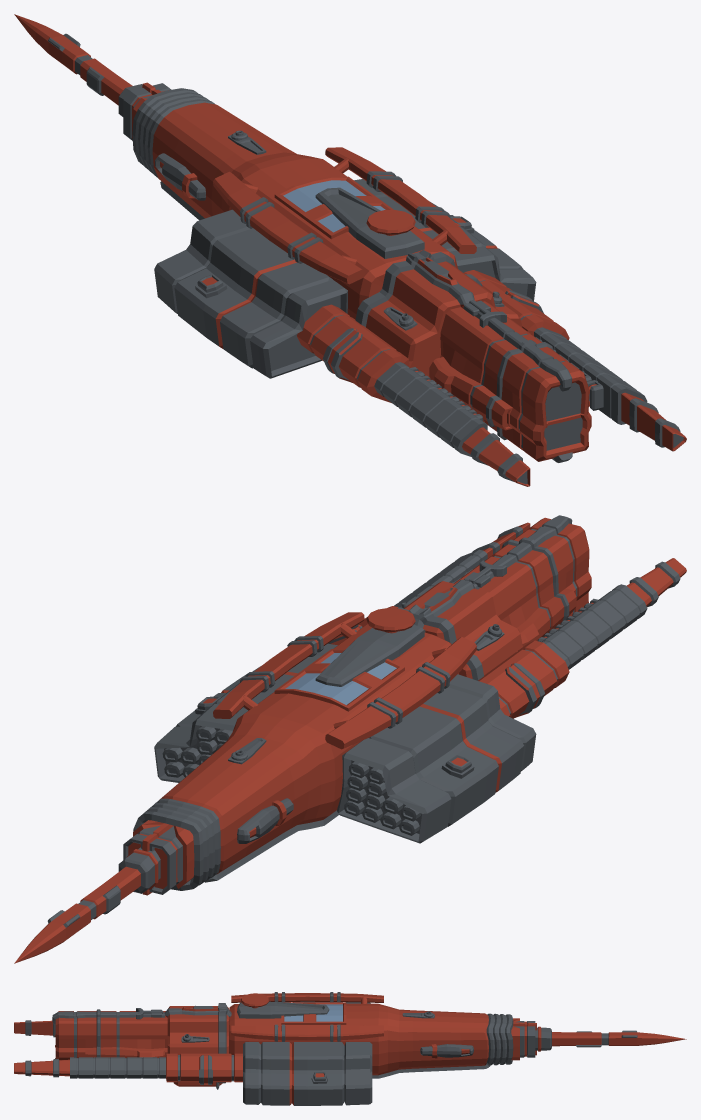
File: Mothership_02_Red.fbx
The picture shows the model from 3 angles, top to bottom: view 1: azimuth 30°, elevation 25°; view 2: azimuth 150°, elevation 25°; view 3: azimuth 270°, elevation 25°; orthographic projection. The views are drawn at different scales.
Parts seen in each view (by area): view 1: Mothership_02_Red; view 2: Mothership_02_Red; view 3: Mothership_02_Red.
Boxes of the visible parts, x1,y1,x2,y2 form: Mothership_02_Red: [14, 14, 686, 486]; Mothership_02_Red: [14, 515, 686, 963]; Mothership_02_Red: [14, 992, 686, 1105].
Bounding box in the file's own units: 2667 × 1241 × 9550.
Materials: 3 (3 with a texture image).
